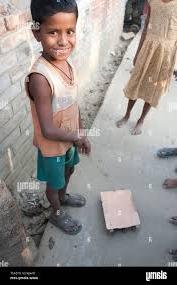Human: (24, 0, 105, 235)
